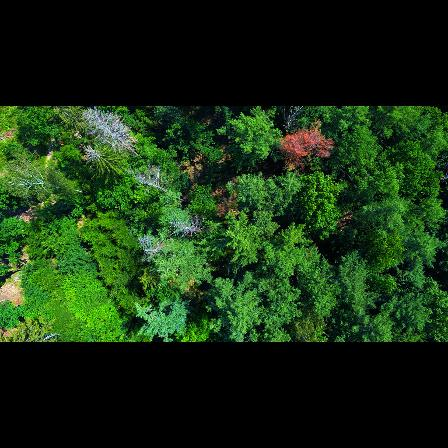Dead: (84, 108, 138, 156), (11, 167, 82, 198), (133, 162, 174, 200), (163, 212, 208, 242)
